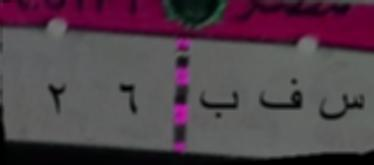2: (42, 75, 69, 116)
6: (108, 80, 148, 120)
baa: (194, 78, 244, 124)
faa: (259, 74, 309, 122)
seen: (320, 84, 364, 123)
